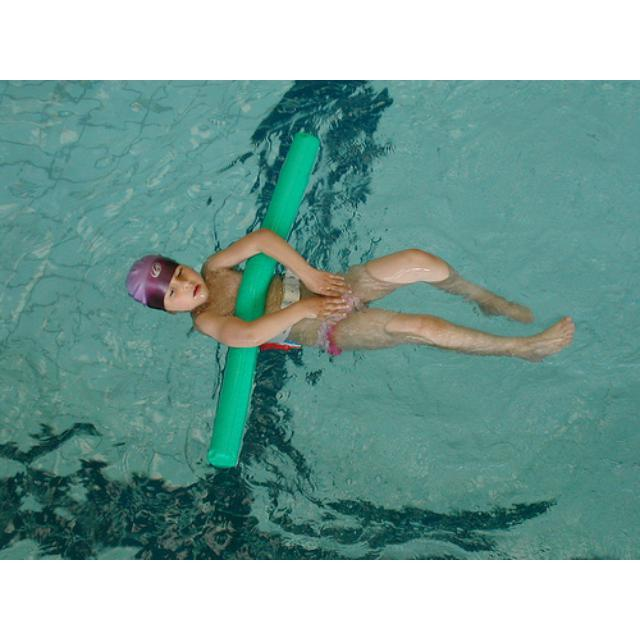human: (124, 227, 578, 367)
